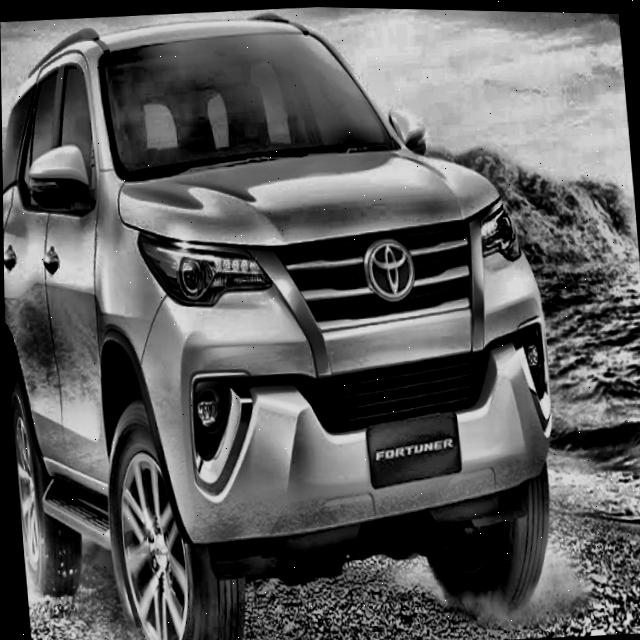light_vehicle: (0, 0, 570, 640)
